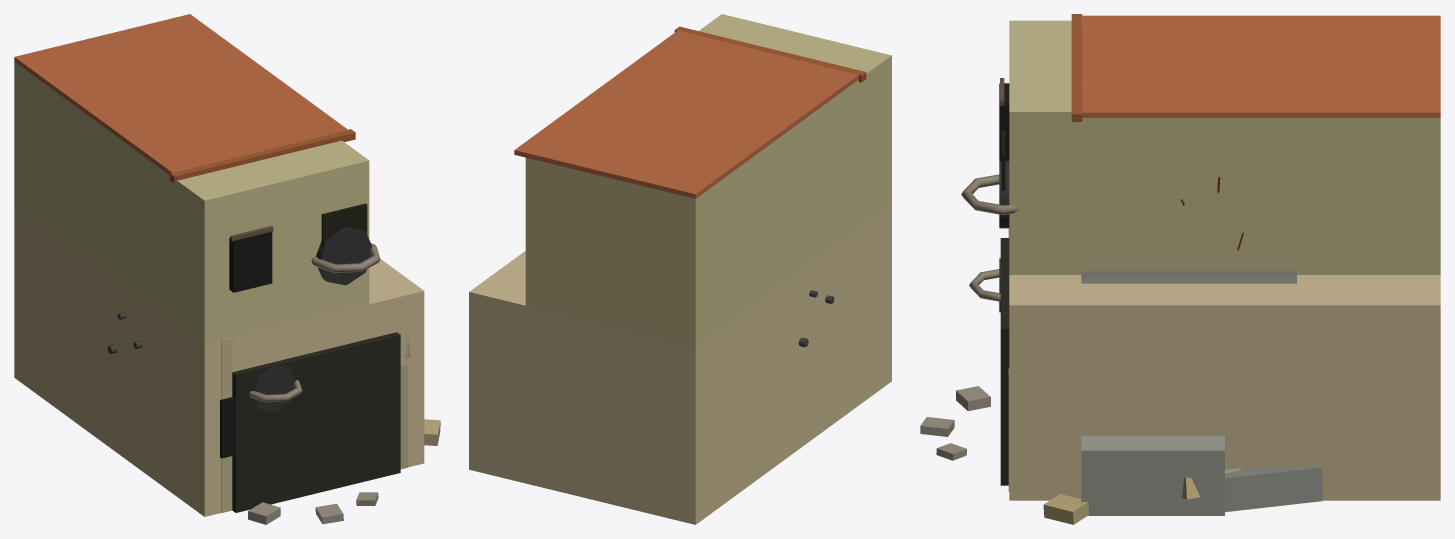
Rendered from shophouse-damaged.glb.
3 views of the same model, side by side, from view 1: azimuth 30°, elevation 25°; view 2: azimuth 150°, elevation 25°; view 3: azimuth 270°, elevation 25° (orthographic). The views are drawn at different scales.
Visible parts, largest first — view 1: Mesh_SecondFloor, Mesh_GroundFloor, Mesh_RoofPartial, Mesh_ShopOpening, Mesh_WindowDark, Mesh_ShellHoleUpper, Mesh_RoofEdge, Mesh_ColumnLeft, Mesh_ShellHoleFront, Mesh_ScorchUpper, Mesh_Charring, Mesh_ColumnRightLower (+2 smaller); view 2: Mesh_GroundFloor, Mesh_SecondFloor, Mesh_RoofPartial, Mesh_RoofEdge; view 3: Mesh_GroundFloor, Mesh_SecondFloor, Mesh_RoofPartial, Mesh_RubblePile, Mesh_Rubble2, Mesh_FloorSlab, Mesh_ShopOpening, Mesh_RoofEdge, Mesh_Debris3, Mesh_CraterRing2, Mesh_WindowDark, Mesh_Debris1.
Part boxes in pixels (left/top/right/bottom): Mesh_SecondFloor: left=14, top=62, right=369, bottom=344; Mesh_GroundFloor: left=14, top=205, right=424, bottom=516; Mesh_RoofPartial: left=14, top=14, right=347, bottom=174; Mesh_ShopOpening: left=232, top=332, right=400, bottom=512; Mesh_WindowDark: left=229, top=231, right=272, bottom=292; Mesh_ShellHoleUpper: left=316, top=227, right=372, bottom=285; Mesh_RoofEdge: left=169, top=129, right=355, bottom=183; Mesh_ColumnLeft: left=221, top=338, right=232, bottom=512; Mesh_ShellHoleFront: left=253, top=365, right=295, bottom=411; Mesh_ScorchUpper: left=321, top=203, right=367, bottom=246; Mesh_Charring: left=220, top=396, right=235, bottom=458; Mesh_ColumnRightLower: left=400, top=364, right=408, bottom=469; Mesh_GroundFloor: left=469, top=204, right=891, bottom=524; Mesh_SecondFloor: left=525, top=14, right=891, bottom=346; Mesh_RoofPartial: left=514, top=30, right=858, bottom=198; Mesh_RoofEdge: left=674, top=26, right=866, bottom=82; Mesh_GroundFloor: left=1009, top=275, right=1440, bottom=500; Mesh_SecondFloor: left=1009, top=20, right=1440, bottom=274; Mesh_RoofPartial: left=1081, top=15, right=1440, bottom=117; Mesh_RubblePile: left=1081, top=435, right=1224, bottom=515; Mesh_Rubble2: left=1225, top=465, right=1322, bottom=512; Mesh_FloorSlab: left=1081, top=271, right=1296, bottom=283; Mesh_ShopOpening: left=1000, top=238, right=1009, bottom=485; Mesh_RoofEdge: left=1071, top=14, right=1082, bottom=121; Mesh_Debris3: left=1043, top=494, right=1088, bottom=524; Mesh_CraterRing2: left=961, top=174, right=1018, bottom=215; Mesh_WindowDark: left=999, top=83, right=1009, bottom=160; Mesh_Debris1: left=956, top=386, right=990, bottom=411.
Bounding box in the file's own units: 4.92 × 5.62 × 7.24.
